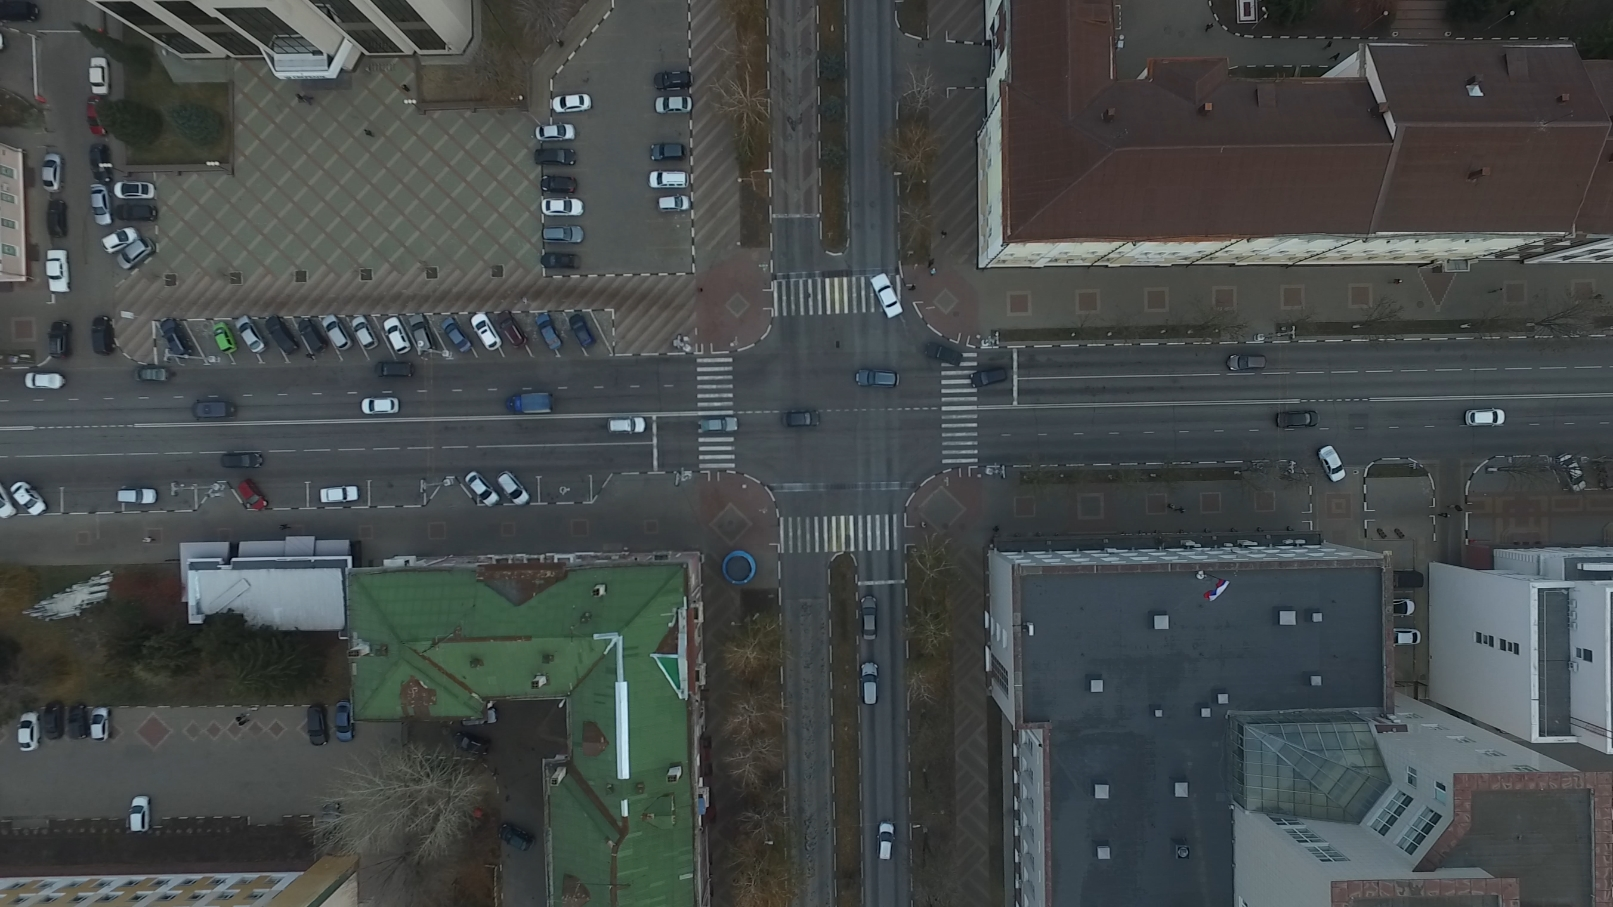car: (869, 274, 910, 317), (156, 318, 196, 360), (266, 316, 301, 358), (465, 470, 505, 505), (44, 250, 75, 296), (321, 315, 356, 354), (14, 480, 49, 518), (495, 309, 530, 347), (471, 315, 505, 352), (440, 317, 474, 354), (1557, 450, 1589, 489), (499, 822, 537, 854), (499, 470, 533, 505), (409, 313, 436, 357), (322, 800, 349, 844), (852, 368, 905, 390), (235, 317, 267, 353), (455, 730, 494, 760), (91, 317, 117, 360), (91, 186, 117, 229), (349, 315, 380, 351), (534, 315, 564, 352), (298, 318, 329, 353), (41, 152, 68, 193), (89, 145, 115, 186), (126, 794, 152, 836), (1319, 446, 1346, 486), (308, 704, 332, 748), (119, 238, 155, 267), (101, 226, 137, 255), (85, 97, 110, 141), (919, 341, 963, 365), (88, 58, 114, 96), (335, 700, 358, 743), (383, 318, 410, 355), (239, 480, 270, 512), (505, 392, 555, 412), (567, 315, 596, 349), (113, 181, 157, 203), (604, 414, 648, 436), (859, 661, 880, 707), (50, 321, 73, 362), (533, 150, 581, 169), (45, 700, 68, 742), (376, 360, 419, 381), (1227, 352, 1268, 374), (24, 370, 66, 391), (876, 821, 897, 863), (540, 227, 584, 247), (653, 73, 694, 94), (115, 204, 158, 224), (1462, 408, 1506, 427), (861, 595, 880, 640), (66, 705, 90, 742), (648, 171, 690, 190), (969, 368, 1009, 389), (21, 713, 43, 751), (653, 97, 694, 117), (552, 94, 590, 115), (2, 4, 41, 25), (1276, 409, 1319, 427), (132, 365, 172, 385), (319, 485, 359, 505), (534, 124, 576, 143), (695, 415, 737, 434), (219, 452, 266, 468), (541, 200, 584, 218), (540, 178, 579, 197), (49, 206, 69, 244), (214, 322, 237, 354), (91, 707, 112, 742), (540, 252, 582, 270), (192, 401, 234, 419), (361, 396, 400, 415), (654, 195, 690, 214), (1391, 569, 1422, 590), (117, 489, 160, 504), (1, 475, 14, 521), (649, 145, 688, 161), (783, 412, 816, 426), (1393, 628, 1420, 645), (1394, 596, 1412, 615)
